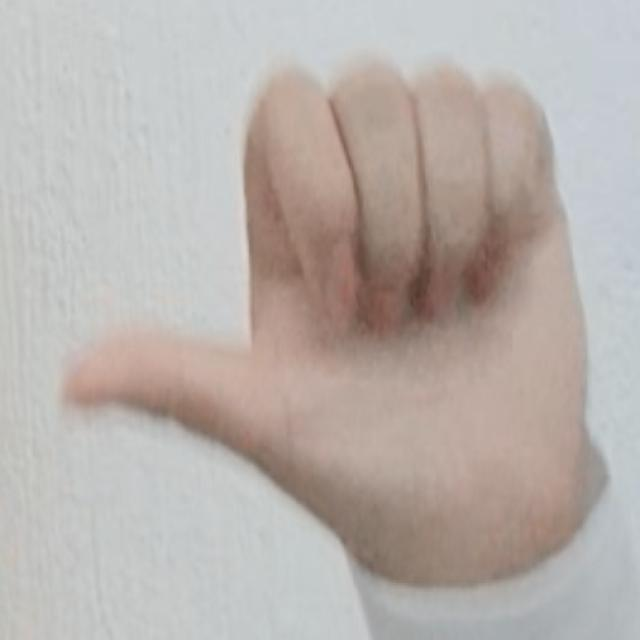A: (56, 47, 600, 553)
